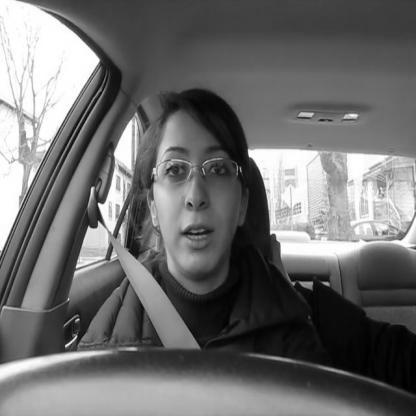seatbelt: (82, 54, 264, 416)
